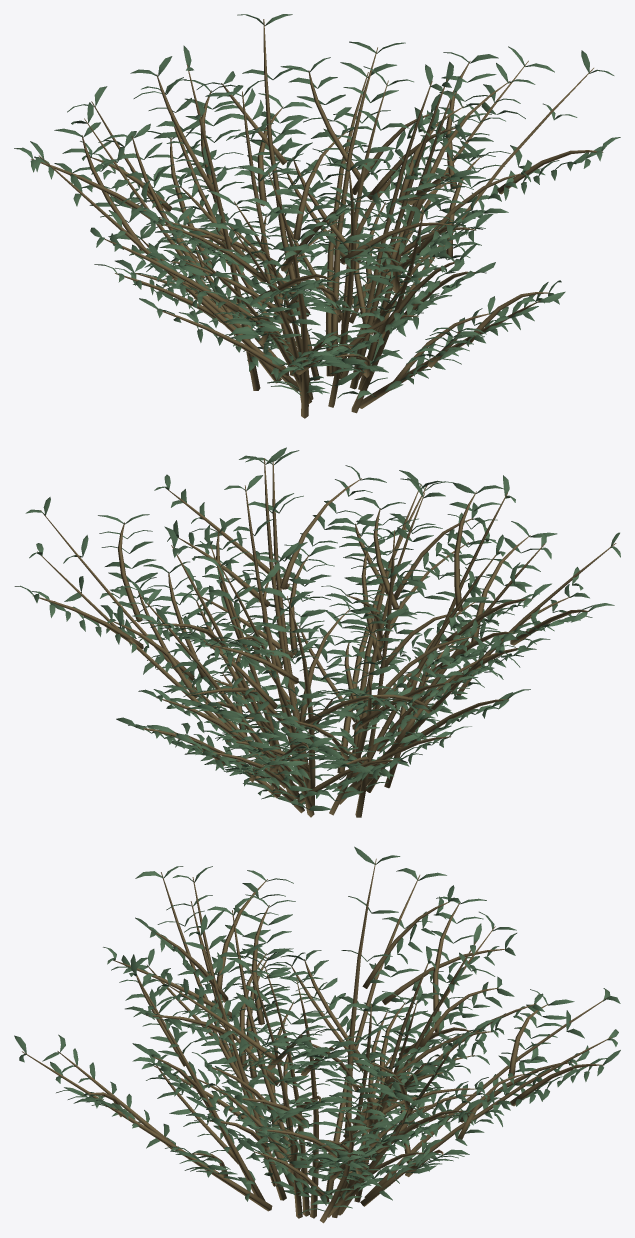
File: Romarin_Jeune_LOD0.fbx
The picture shows the model from 3 angles, top to bottom: view 1: azimuth 30°, elevation 25°; view 2: azimuth 150°, elevation 25°; view 3: azimuth 270°, elevation 25°; orthographic projection. The views are drawn at different scales.
Visible parts, largest first — view 1: Romarin_Jeune; view 2: Romarin_Jeune; view 3: Romarin_Jeune.
Part boxes in pixels (left/top/right/bottom): Romarin_Jeune: left=14, top=14, right=620, bottom=418; Romarin_Jeune: left=14, top=447, right=620, bottom=817; Romarin_Jeune: left=14, top=846, right=620, bottom=1223.
Size of the model in its own units: 60.42 by 34.91 by 62.34.
